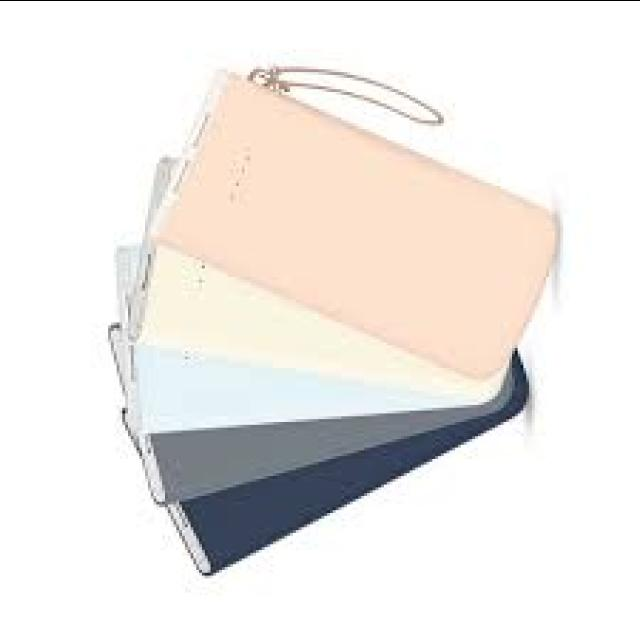power_bank: (154, 68, 560, 374), (130, 345, 524, 580), (130, 161, 510, 403), (106, 312, 524, 502), (118, 239, 506, 432)
